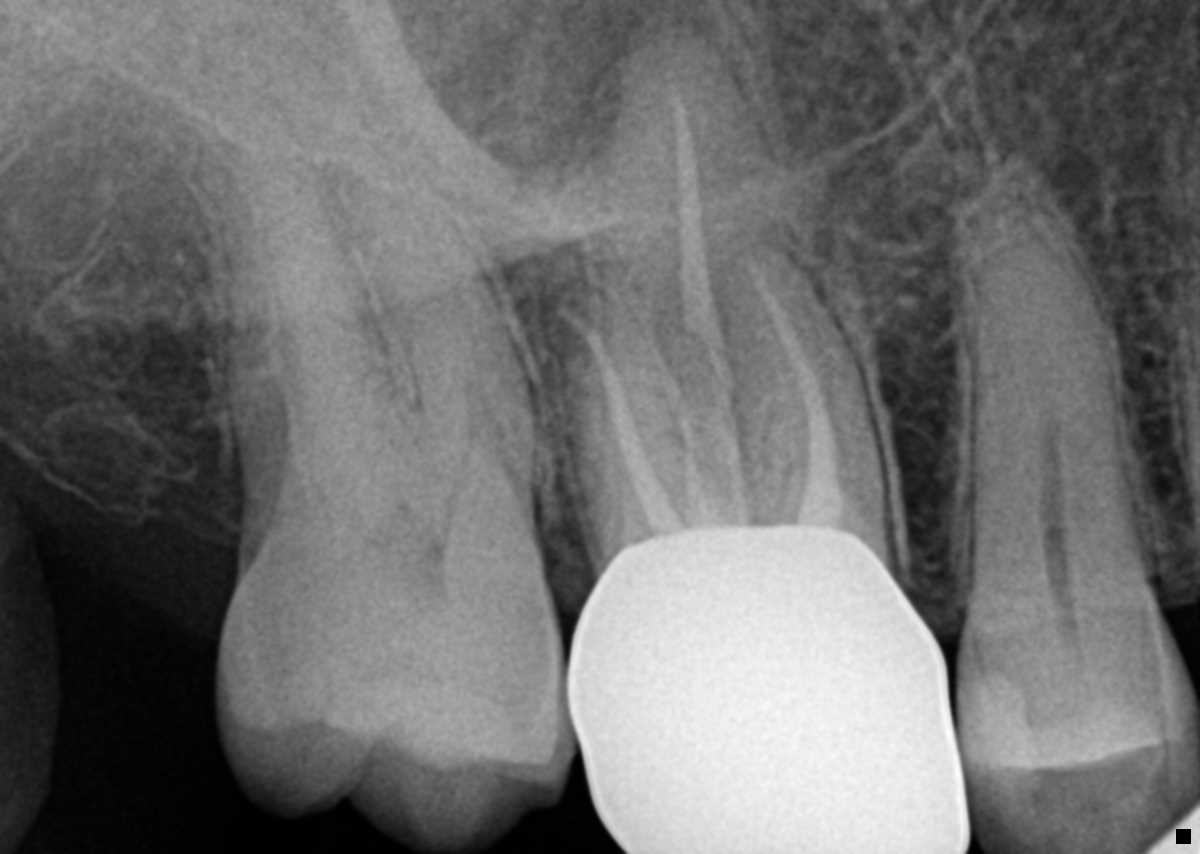Apical Lesion: (520, 0, 731, 197), (507, 225, 590, 347)
Distal Root: (543, 278, 720, 569), (254, 166, 408, 459)
Main Canal: (1043, 409, 1074, 593)
Main Root: (958, 169, 1148, 616)
Mesial Canal: (447, 330, 475, 513)
Mesial Root: (331, 154, 538, 459), (729, 236, 892, 555)
Palatal Root: (197, 30, 512, 524), (612, 21, 865, 548)
Root Canal Filling: (665, 70, 751, 537), (744, 252, 844, 541), (553, 304, 673, 540)
